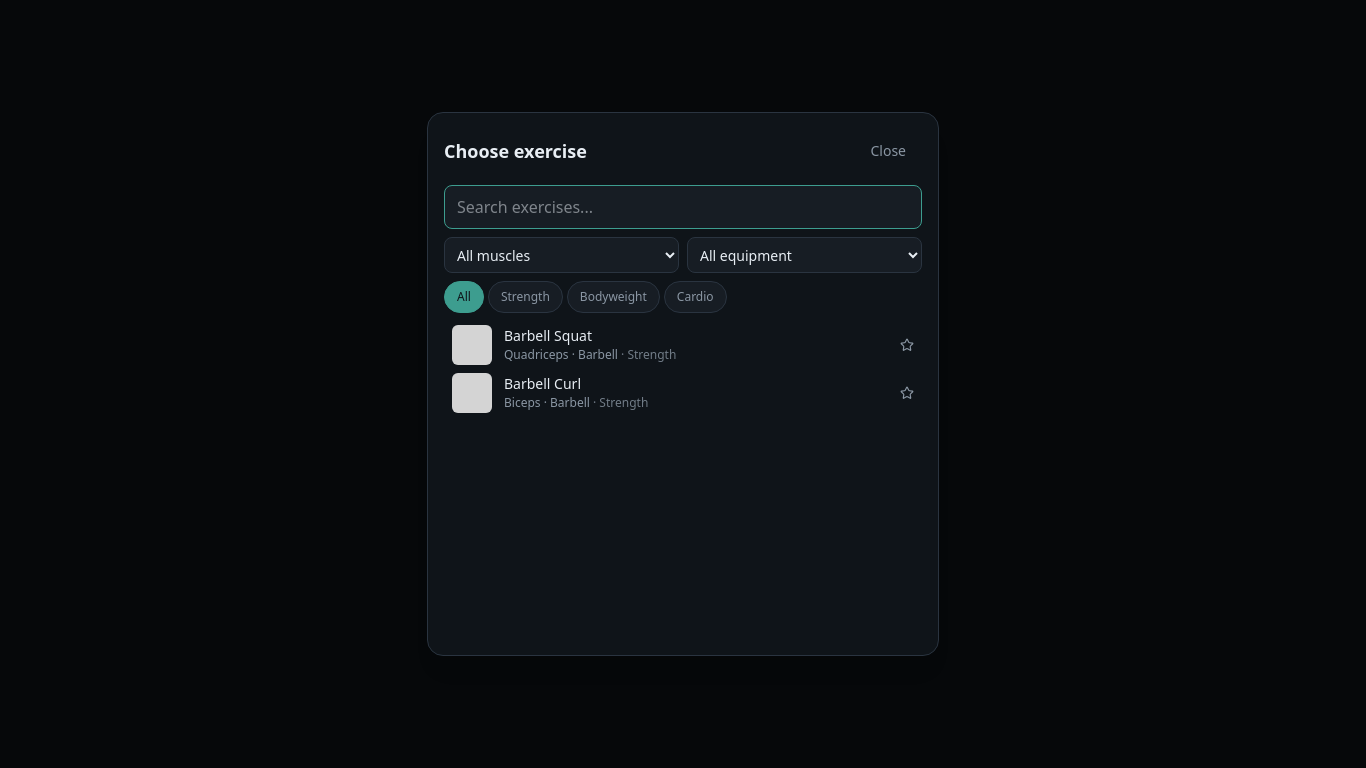
Test: ExercisePicker › shows compact searchable rows with muscle and equipment
expect the text "Barbell Squat" is shown: met, box [504, 326, 592, 345]
expect the dropdown named "All muscles" is shown: met, box [444, 237, 679, 273]
Type "curl" into the field with placeholder "Search exercises..." at (683, 207), box [444, 185, 922, 229]
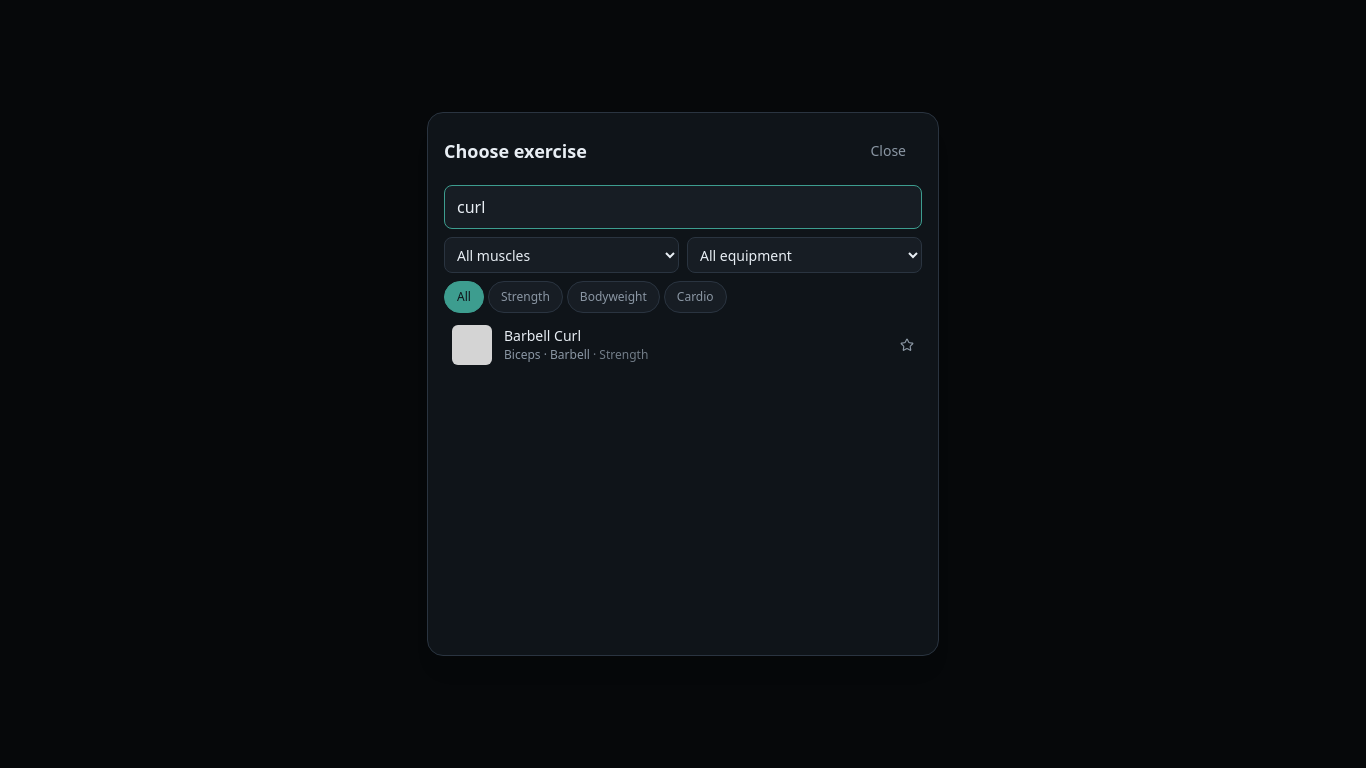
expect the text "Barbell Curl" is shown: met, box [504, 326, 581, 345]
expect the button "Barbell Squat" is gone: met
